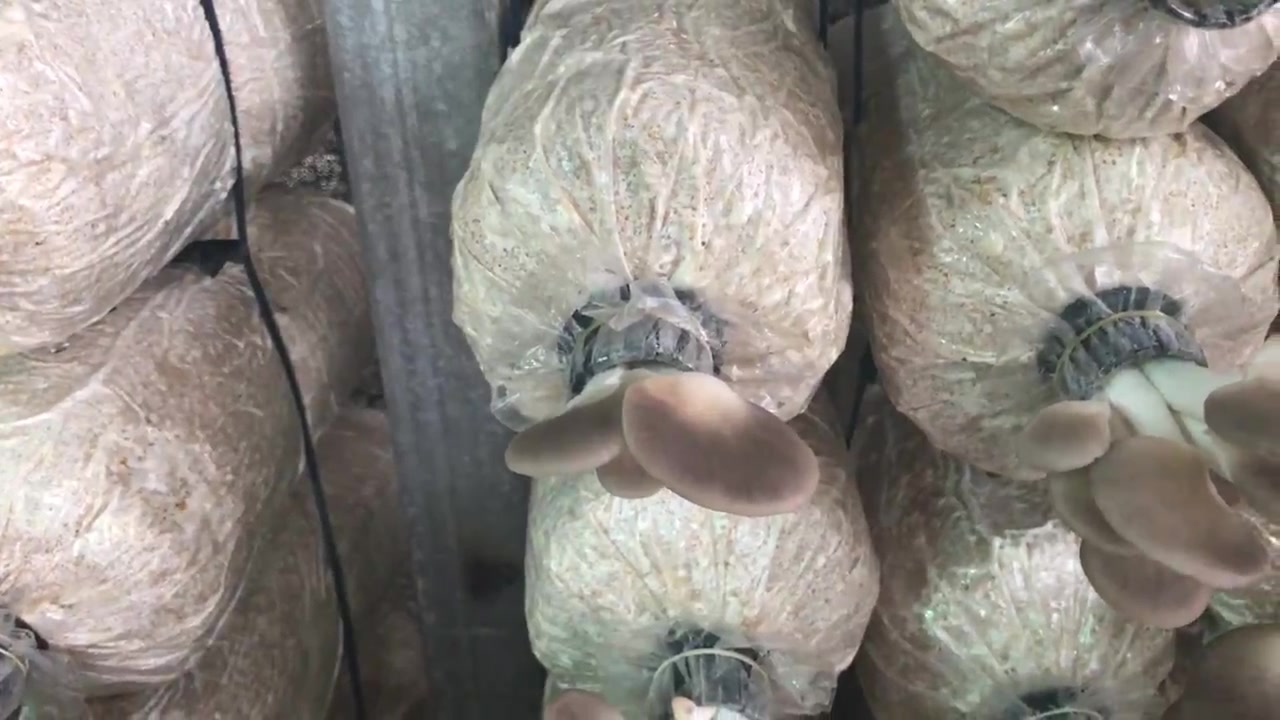nam: (1010, 292, 1280, 628), (503, 288, 820, 523)
